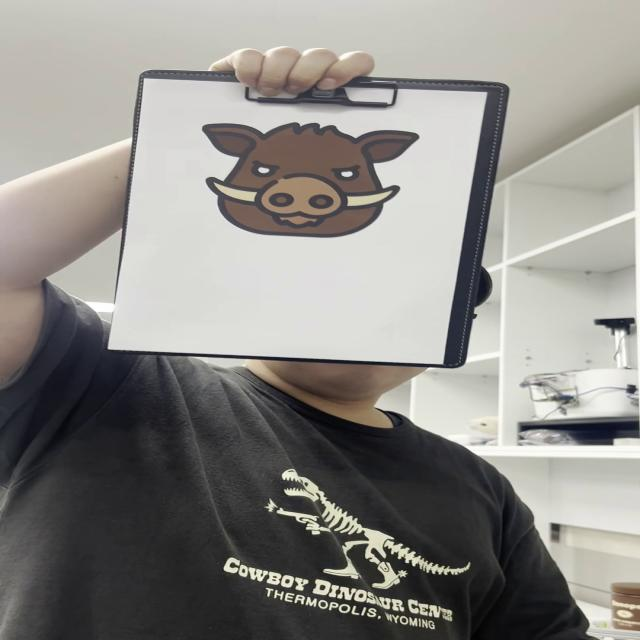animal: (192, 122, 425, 246)
